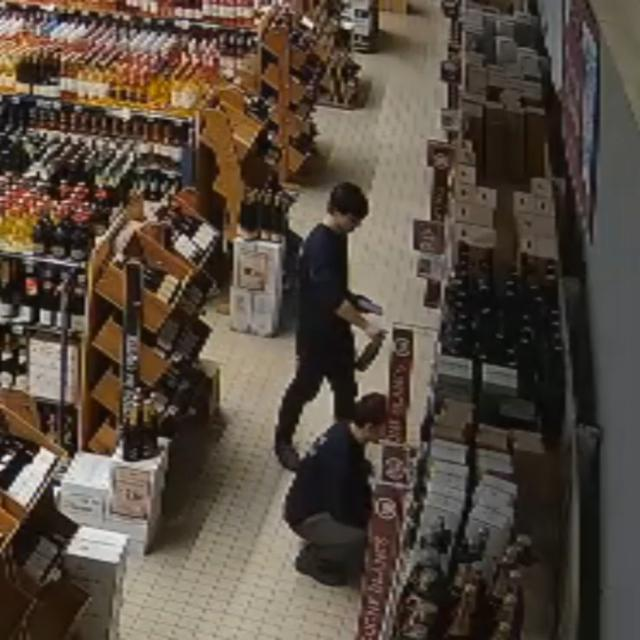article: (355, 339, 380, 372)
hands: (364, 323, 386, 341)
person: (275, 182, 381, 471), (284, 393, 387, 585)
